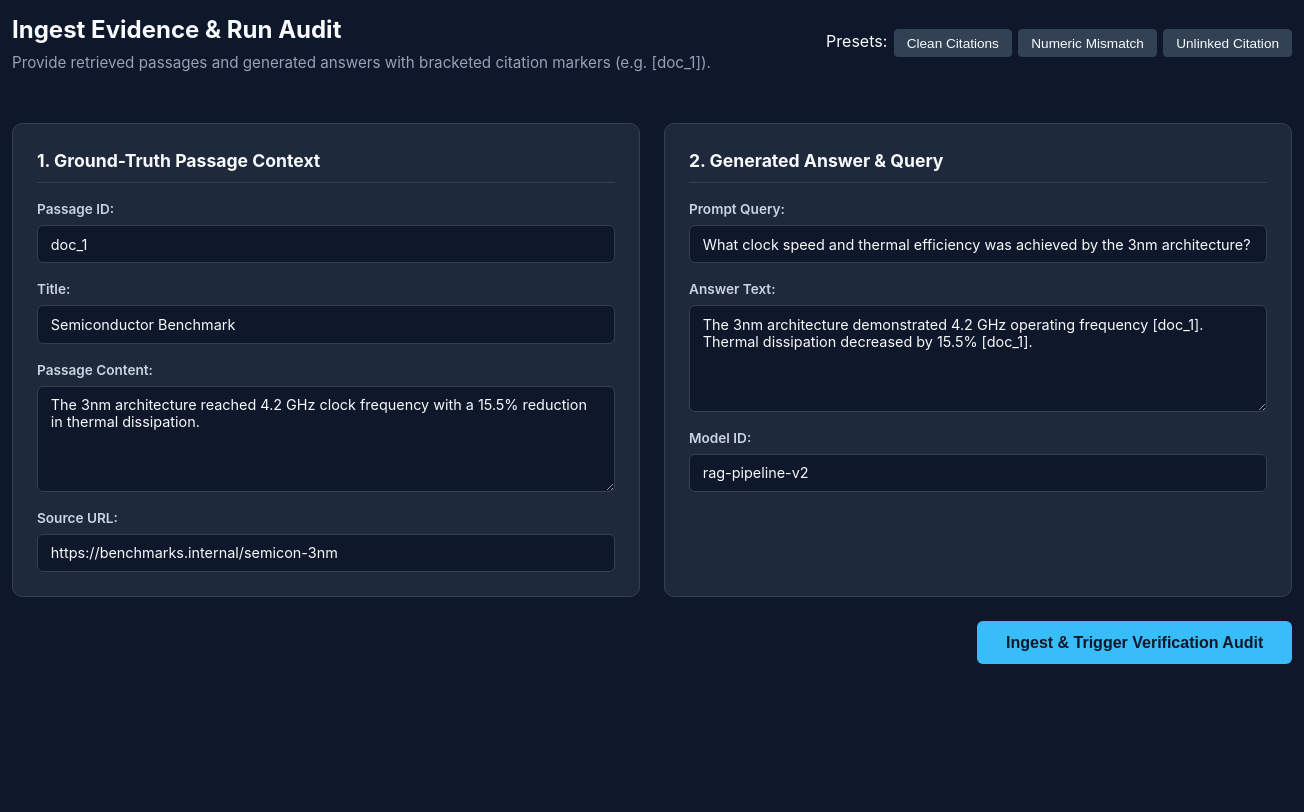
it: ImportWorkflow Component › loads Clean Citations preset when clicked
Click the button "Clean Citations".
click(953, 43)  # box [894,29,1012,58]
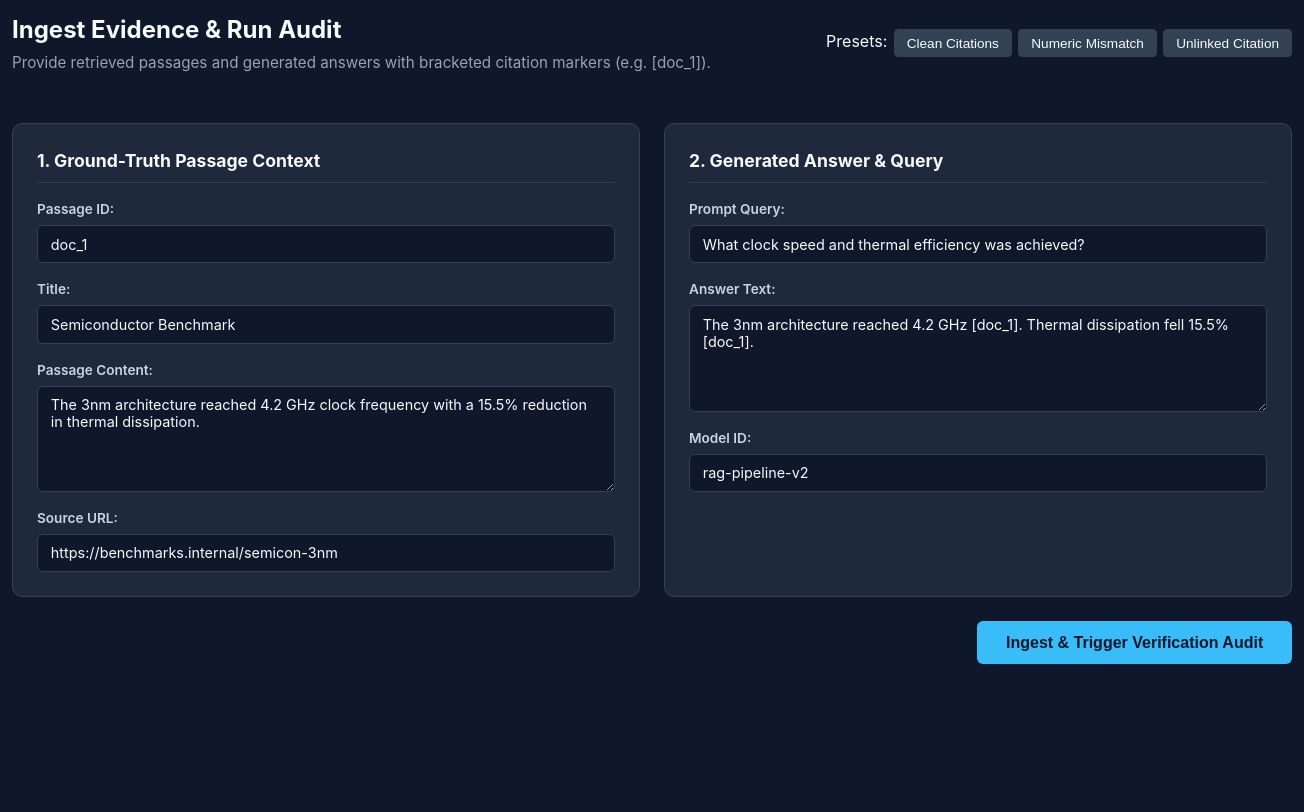
expect the field showing "doc_1" below "Passage ID:" is shown: met, box [37,225,615,263]
expect the text box showing "The 3nm architecture reached 4.2 GHz [doc_1]. Thermal dissipation fell 15.5% [doc_1]." below "Answer Text:" is shown: met, box [689,305,1267,412]
